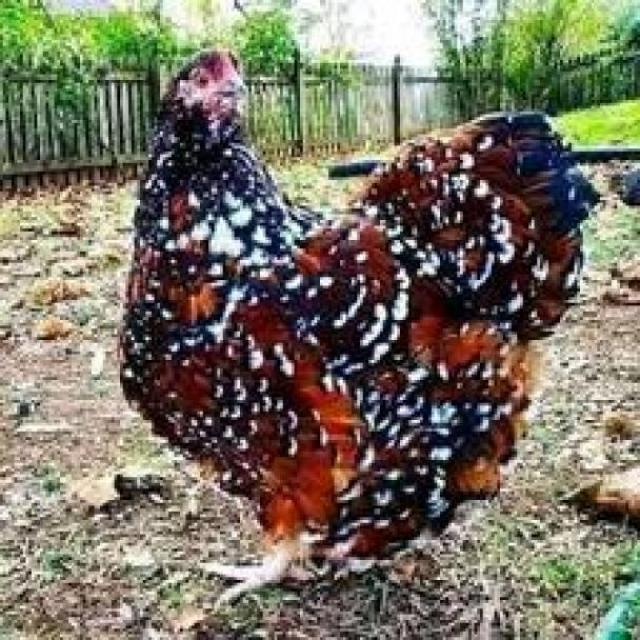Chicken: (105, 41, 577, 618)
